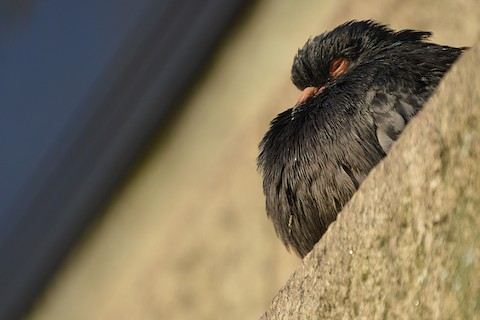pigeon: (254, 13, 475, 264)
